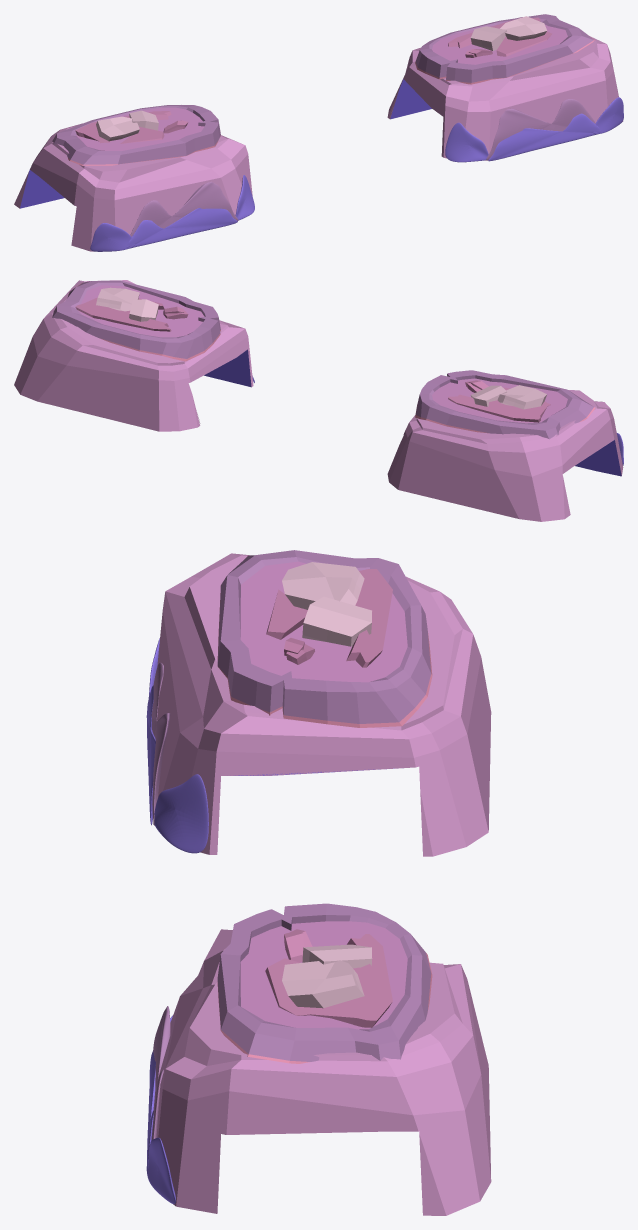
Rendered from 가림막_버전_2 1.fbx.
The picture shows the model from 3 angles, top to bottom: view 1: azimuth 30°, elevation 25°; view 2: azimuth 150°, elevation 25°; view 3: azimuth 270°, elevation 25°; orthographic projection. The views are drawn at different scales.
Parts seen in each view (by area): view 1: Plane.005; view 2: Plane.005; view 3: Plane.005.
Boxes of the visible parts, box(x1,y1,x2,y2) form: Plane.005: box(14, 14, 623, 251); Plane.005: box(14, 280, 623, 521); Plane.005: box(146, 550, 491, 1215).
Size of the model in its own units: 2284 by 344 by 619.
